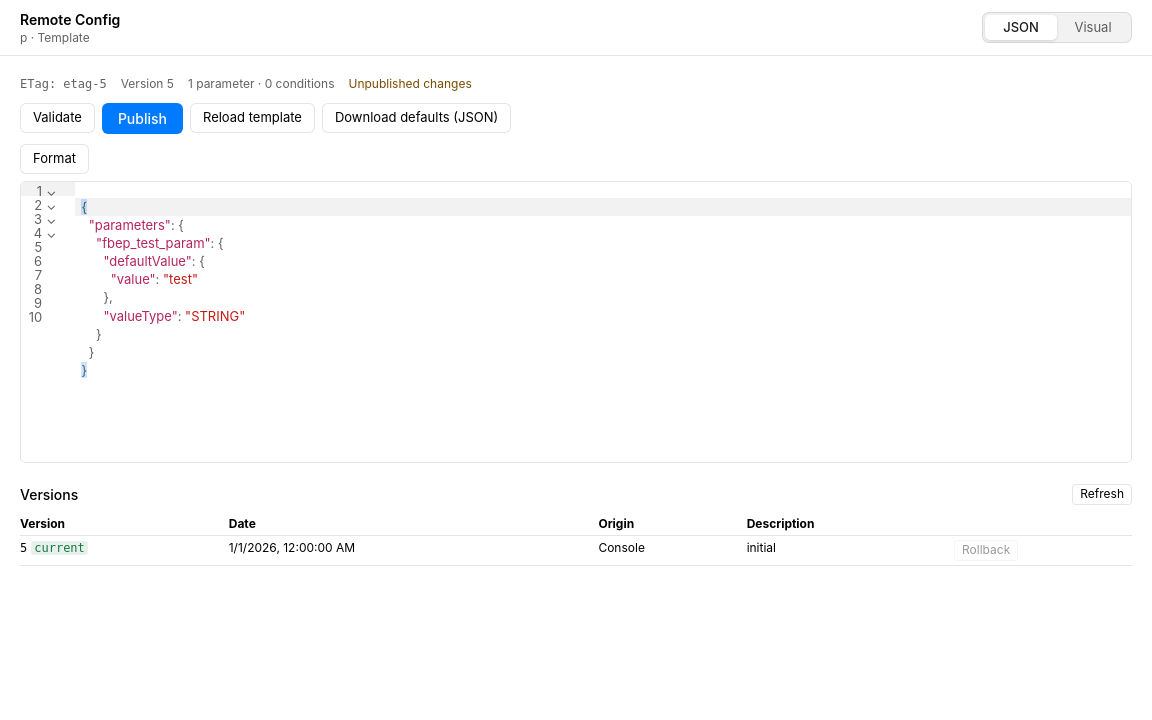
Test: RemoteConfigView › validates without writing and shows the result
Expected: the text "ETag: etag-5" is shown, x1=20 y1=76 x2=107 y2=92
Click the button with test id "rc-validate". click: {"x": 57, "y": 118}
box: x1=20 y1=103 x2=95 y2=133
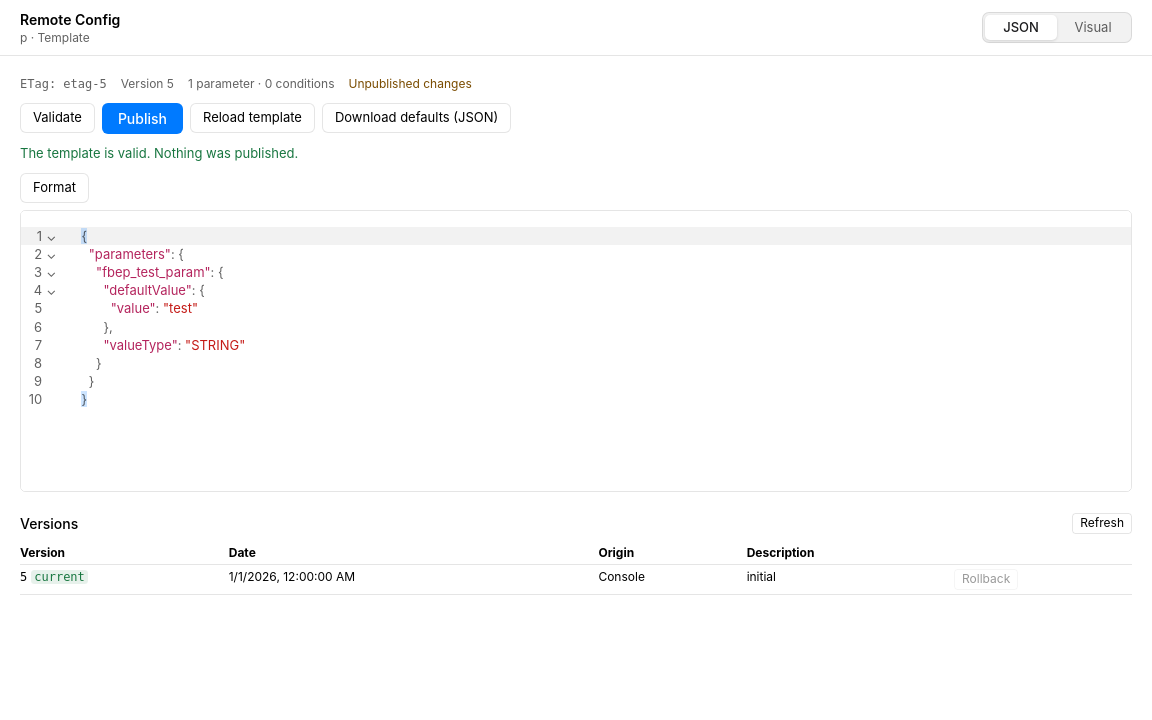
Expected: the message "The template is valid. Nothing was published." is shown, x1=20 y1=145 x2=298 y2=161
